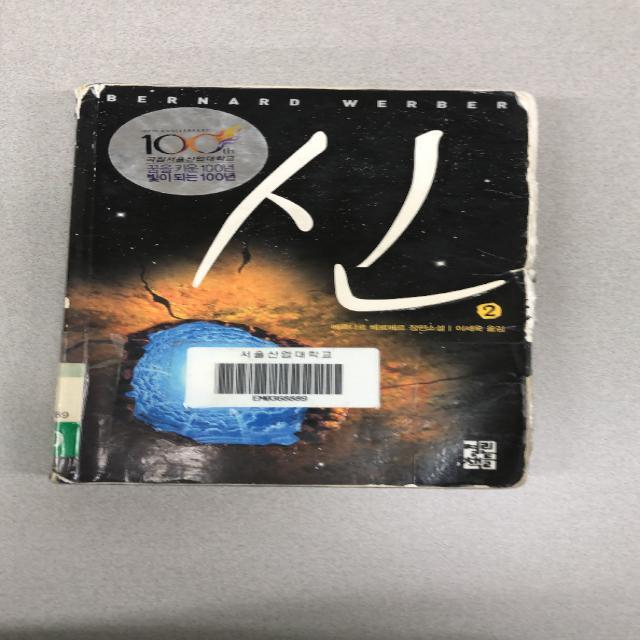Ripped: (71, 82, 107, 122), (45, 463, 88, 488)
Wornout: (509, 86, 544, 345), (88, 474, 254, 490), (514, 374, 539, 467), (307, 477, 421, 491), (107, 80, 189, 93), (434, 86, 500, 102), (452, 477, 502, 491), (508, 467, 533, 490), (60, 293, 77, 312)
